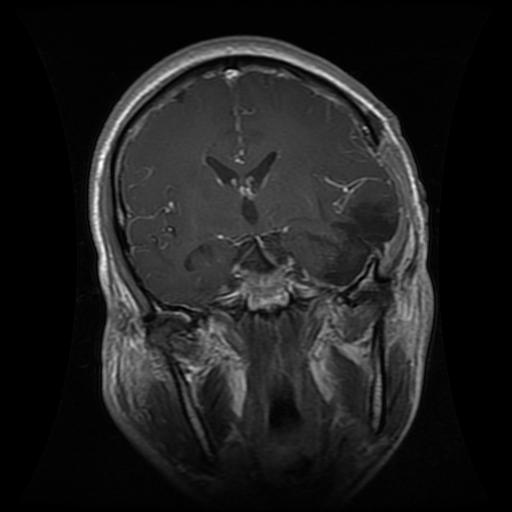Gliomia_tumour: (303, 194, 397, 283)
